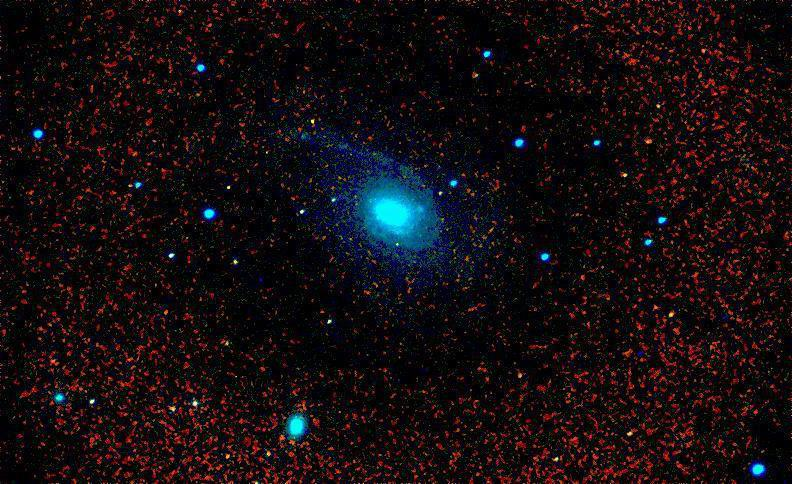star: (610, 158, 640, 188)
